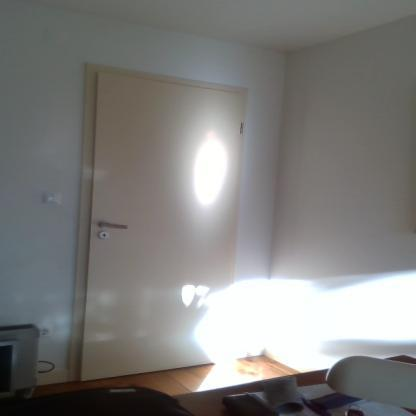door: (94, 74, 240, 370)
hinged: (238, 120, 245, 135)
lever: (99, 222, 128, 232)
